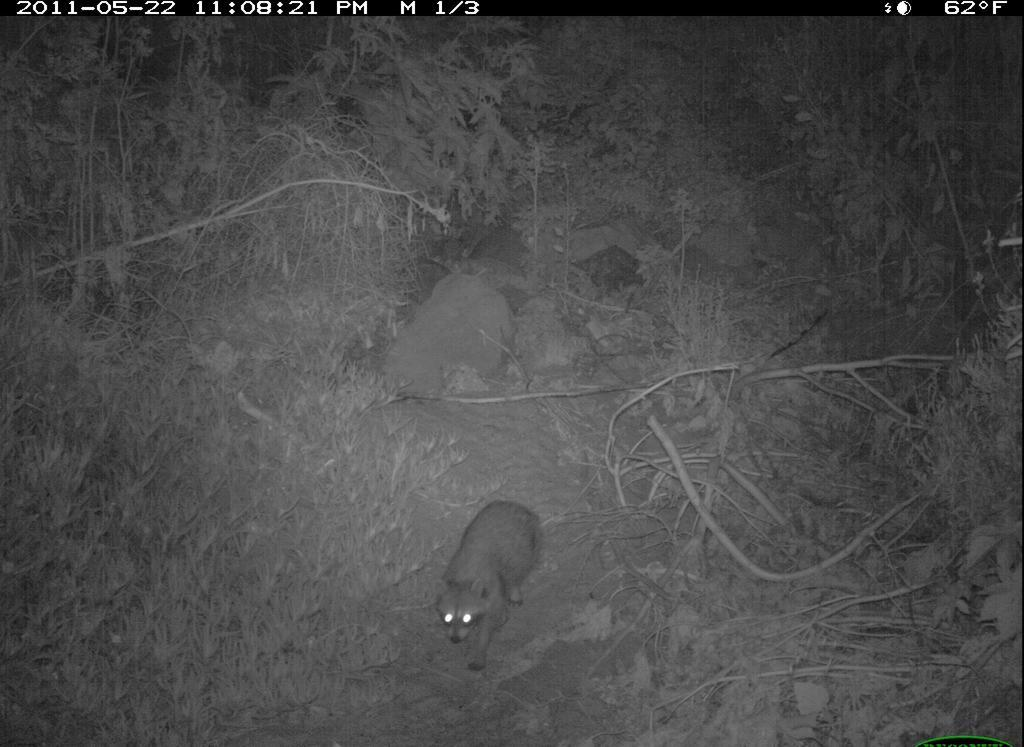raccoon: (431, 493, 548, 673)
